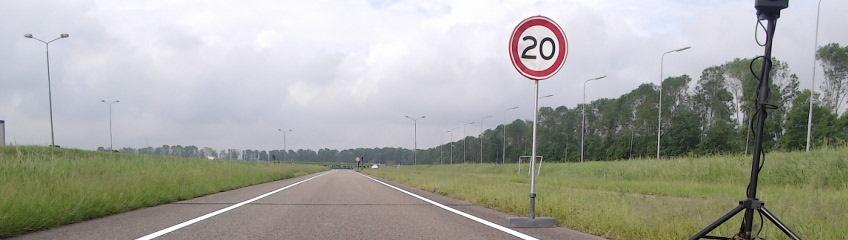Speed-limit-20km-h-: (508, 15, 568, 80)
